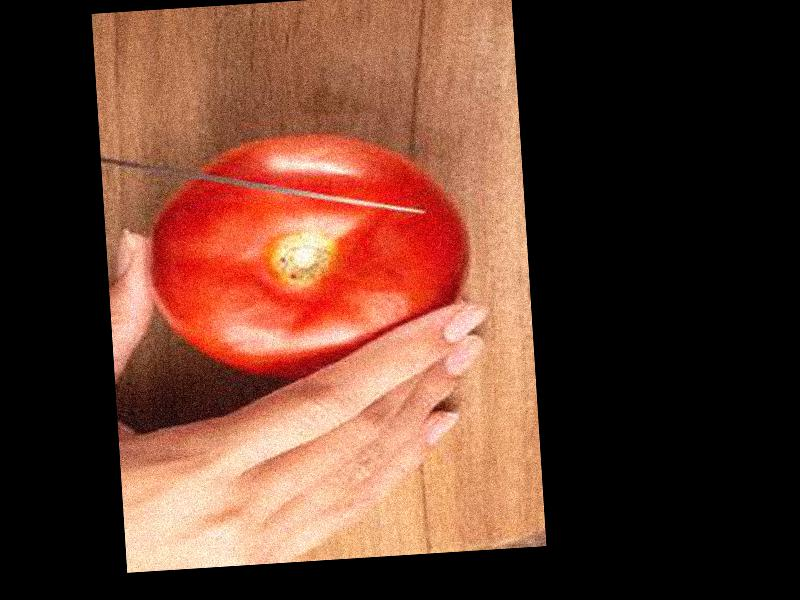Tomato: (145, 130, 474, 388)
